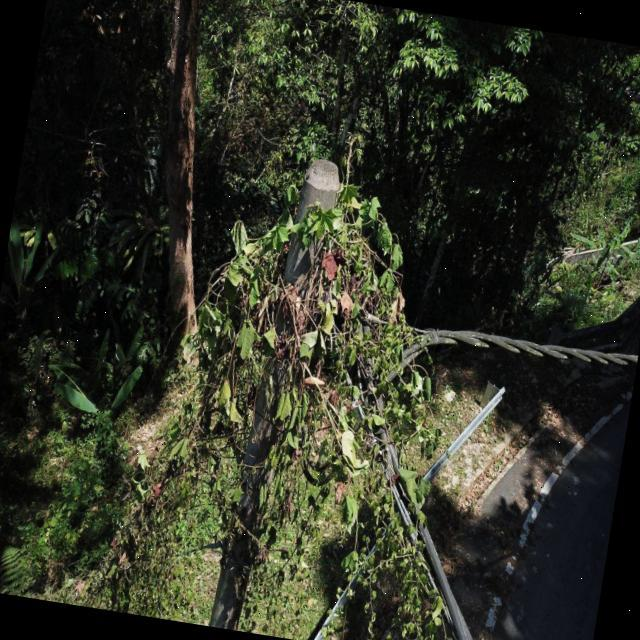critical vegetation: (94, 146, 491, 640)
